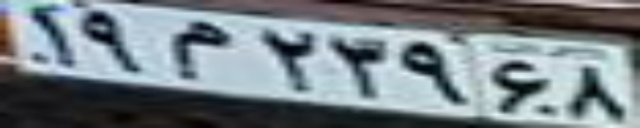1: (29, 8, 73, 66)
2: (261, 29, 313, 91)
3: (330, 35, 390, 99)
6: (488, 58, 550, 112)
8: (562, 64, 625, 122)
9: (402, 39, 466, 104), (80, 9, 142, 72)
lam: (169, 20, 228, 79)
